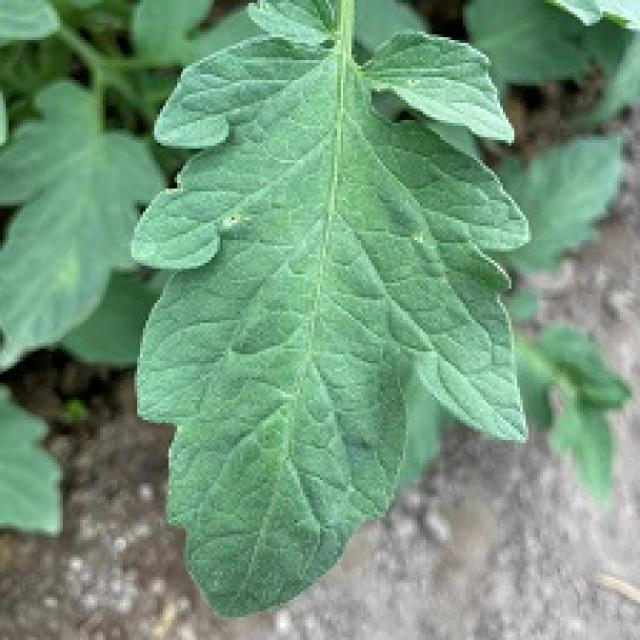Healthy: (124, 0, 537, 617)
